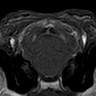Brain: (23, 24, 76, 77)
